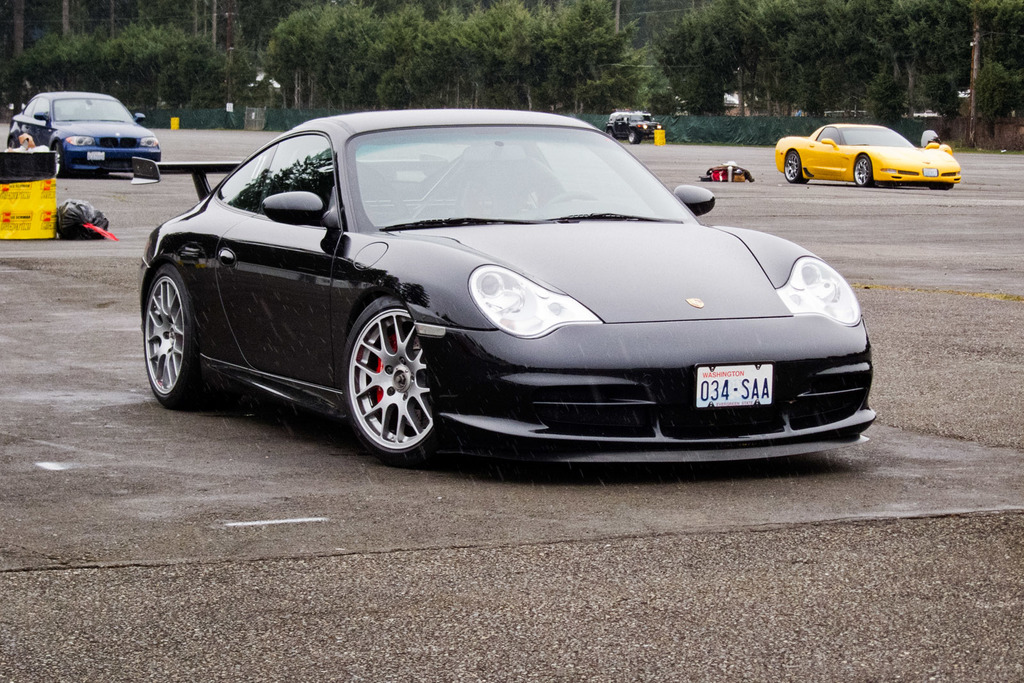mobil: (139, 101, 891, 499), (774, 100, 954, 210)
